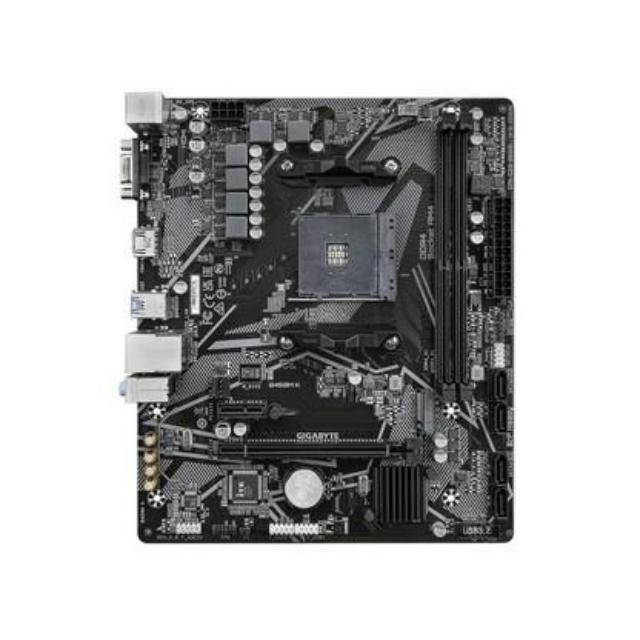Mainboard: (111, 80, 520, 562)
